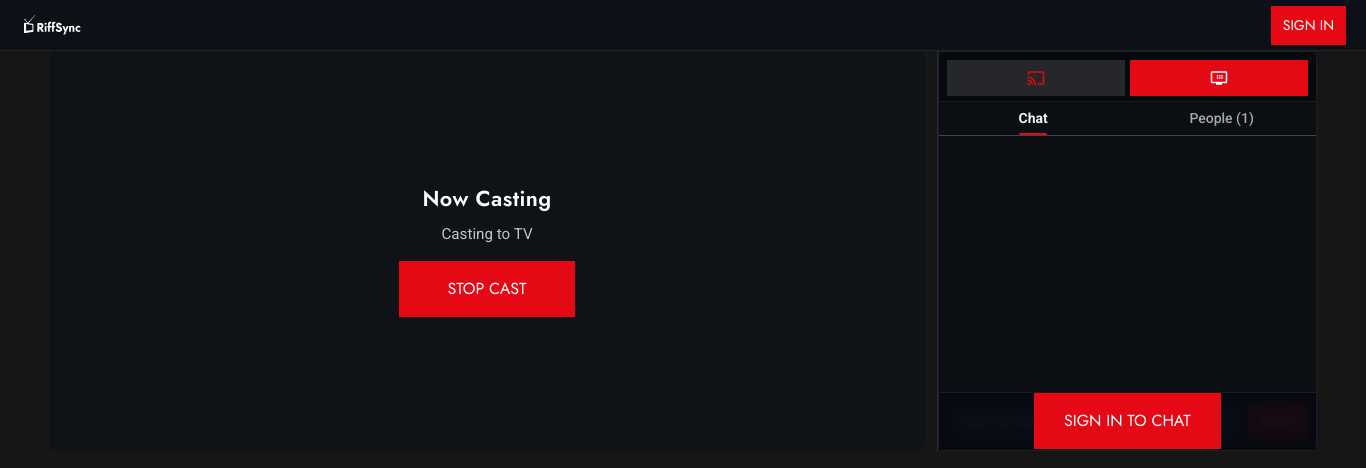
it: RoomPage Cast active participation (#275) › keeps sidebar tabs and compose interactive while Cast is active
Check: the tab with class "riffsync-room-page__tab" showing "Chat" is shown, box [939, 102, 1127, 135]
Check: the element with test id "cast-active-stage-panel" is shown, box [49, 51, 925, 451]
Click the tab with class "riffsync-room-page__tab" showing "People (1)" at (1222, 119), box [1127, 102, 1316, 135]
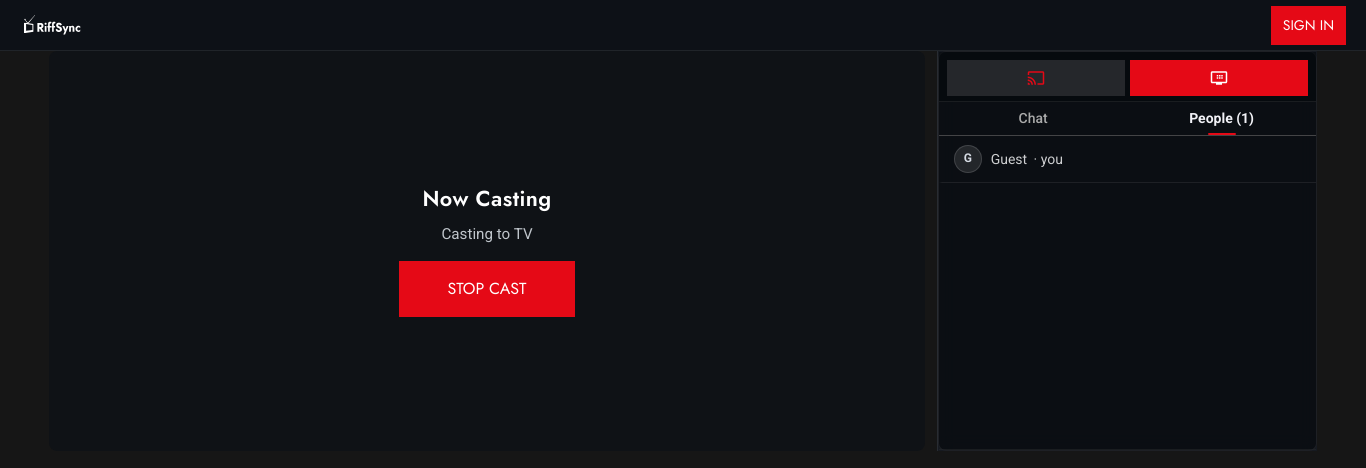
Click the tab with class "riffsync-room-page__tab" showing "Chat" at (1033, 119), box [939, 102, 1127, 135]
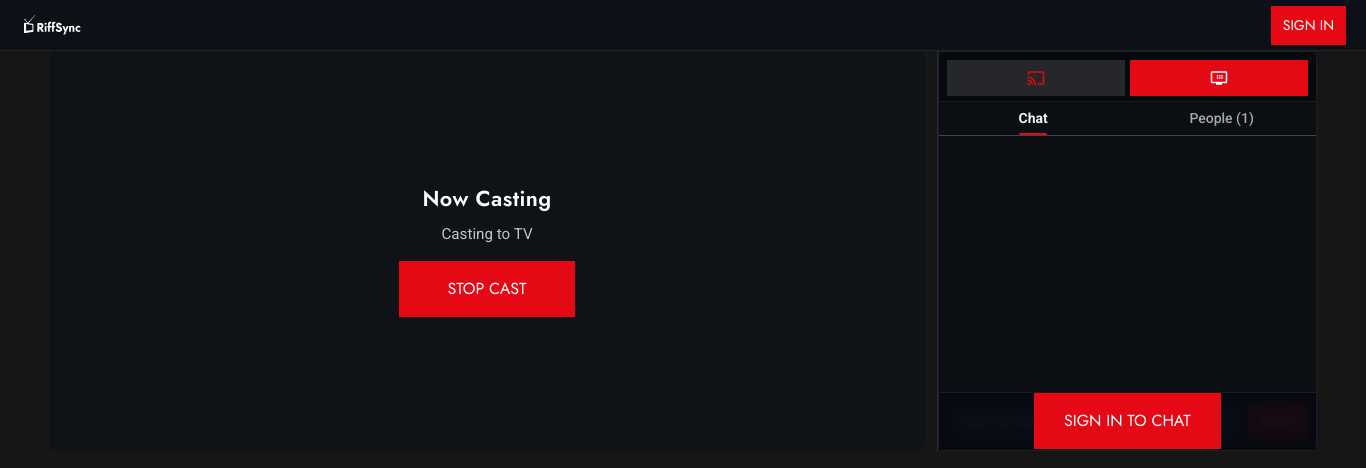
Check: the field with placeholder "Say something…" is disabled, box [949, 403, 1240, 439]
